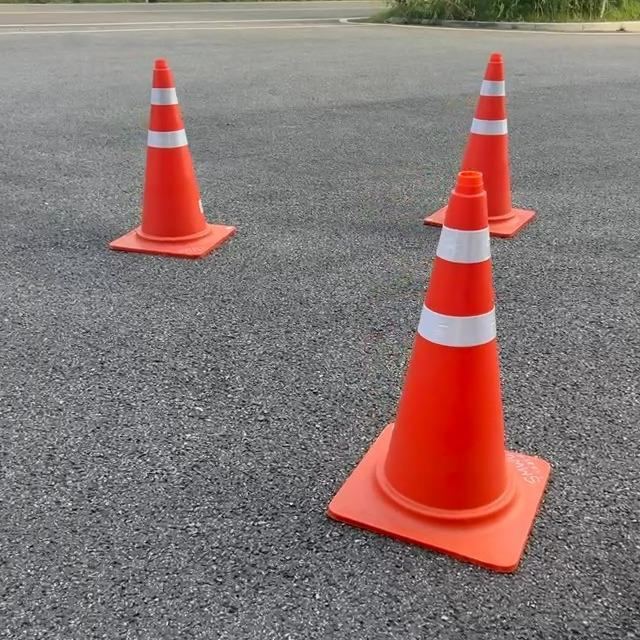fallen_object: (359, 172, 531, 545), (79, 63, 262, 367), (410, 45, 531, 281)
